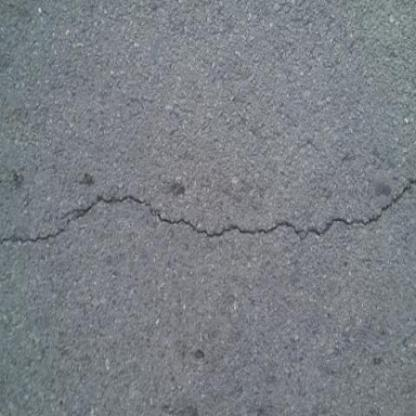Cracks: (0, 178, 415, 252)
